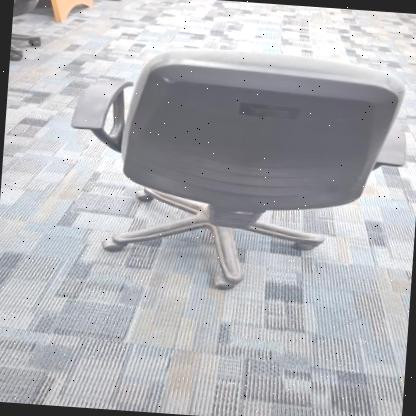chair: (58, 30, 416, 308)
